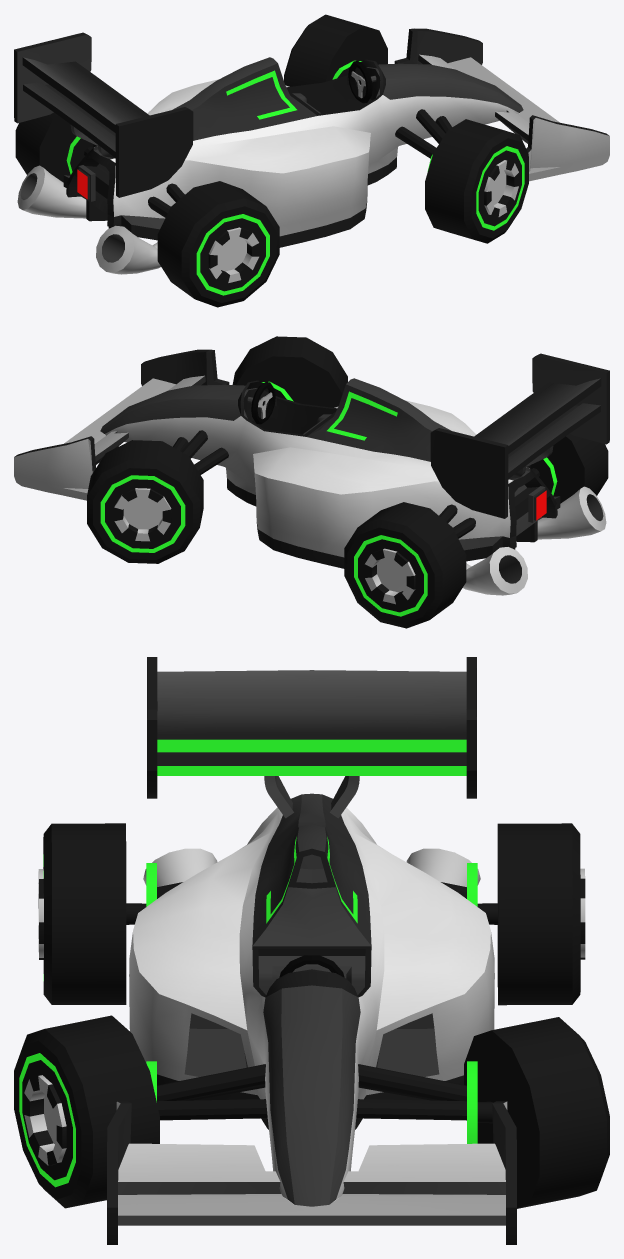
File: RaceCar_067.glb
The picture shows the model from 3 angles, top to bottom: view 1: azimuth 30°, elevation 25°; view 2: azimuth 150°, elevation 25°; view 3: azimuth 270°, elevation 25°; orthographic projection. The views are drawn at different scales.
Visible parts, largest first — view 1: RaceCar_067, wheel_3_RaceCar_067_Wheel_2R, wheel_1_RaceCar_067_Wheel_1R, wheel_0_RaceCar_067_Wheel_1L, wheel_2_RaceCar_067_Wheel_2L; view 2: RaceCar_067, wheel_0_RaceCar_067_Wheel_1L, wheel_2_RaceCar_067_Wheel_2L, wheel_1_RaceCar_067_Wheel_1R, wheel_3_RaceCar_067_Wheel_2R; view 3: RaceCar_067, wheel_0_RaceCar_067_Wheel_1L, wheel_1_RaceCar_067_Wheel_1R, wheel_2_RaceCar_067_Wheel_2L, wheel_3_RaceCar_067_Wheel_2R.
Part boxes in pixels (<box>): RaceCar_067: <box>14,28,609,274</box>; wheel_3_RaceCar_067_Wheel_2R: <box>157,181,279,307</box>; wheel_1_RaceCar_067_Wheel_1R: <box>425,119,528,243</box>; wheel_0_RaceCar_067_Wheel_1L: <box>284,14,387,86</box>; wheel_2_RaceCar_067_Wheel_2L: <box>15,112,93,182</box>; RaceCar_067: <box>14,349,609,595</box>; wheel_0_RaceCar_067_Wheel_1L: <box>87,440,203,563</box>; wheel_2_RaceCar_067_Wheel_2L: <box>344,502,466,628</box>; wheel_1_RaceCar_067_Wheel_1R: <box>232,336,347,407</box>; wheel_3_RaceCar_067_Wheel_2R: <box>530,433,608,503</box>; RaceCar_067: <box>107,657,516,1244</box>; wheel_0_RaceCar_067_Wheel_1L: <box>464,1017,609,1208</box>; wheel_1_RaceCar_067_Wheel_1R: <box>14,1015,159,1208</box>; wheel_2_RaceCar_067_Wheel_2L: <box>467,823,585,1005</box>; wheel_3_RaceCar_067_Wheel_2R: <box>38,823,156,1004</box>.
Size of the model in its own units: 3.66 by 1.27 by 2.49.
Materials: 2 (2 with a texture image).
